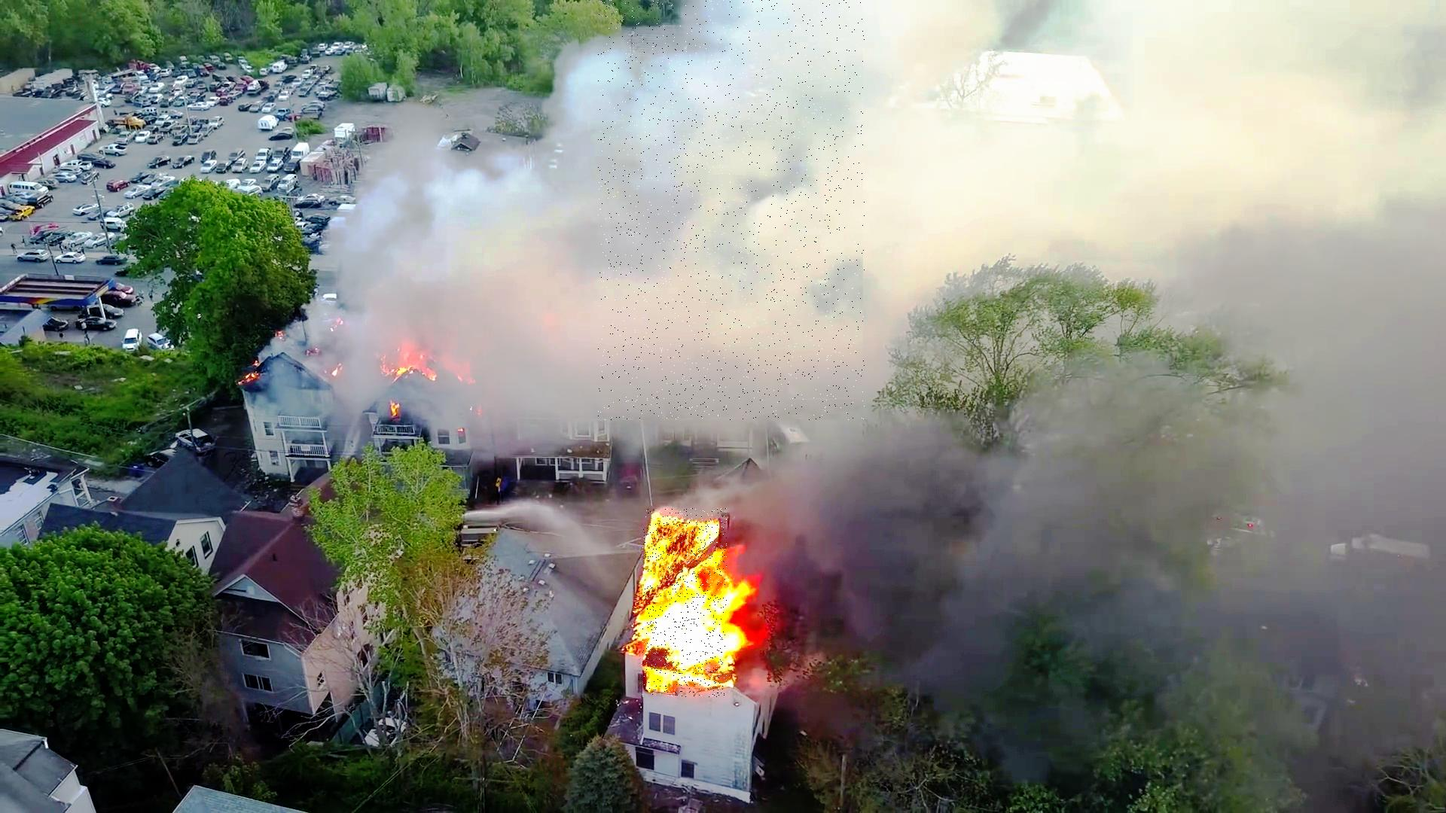fire: (643, 508, 727, 697)
smoke: (599, 0, 865, 420)
